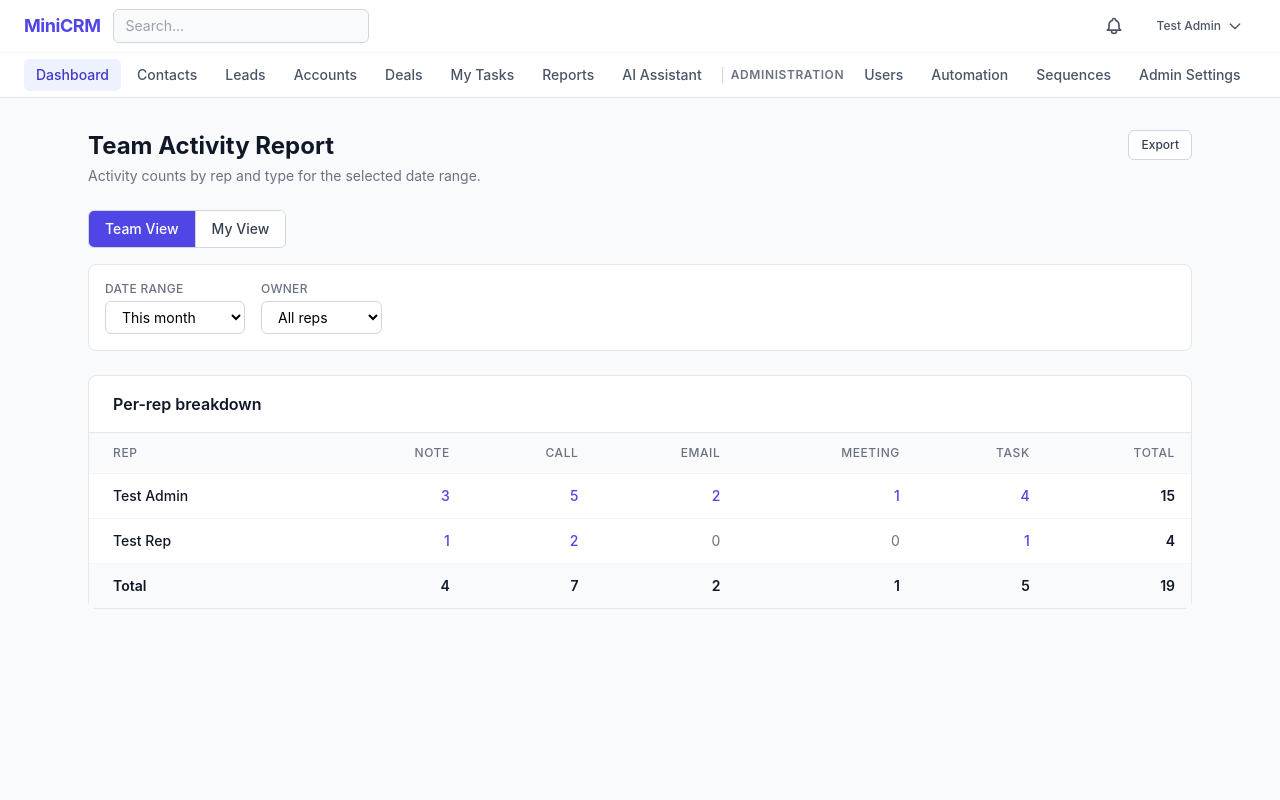
it: ActivityVolumeReportPage › view mode toggle › heading changes to My Activity Report when admin switches to My View
Click the button with test id "view-mode-my": (240, 229) x1=195 y1=211 x2=285 y2=247
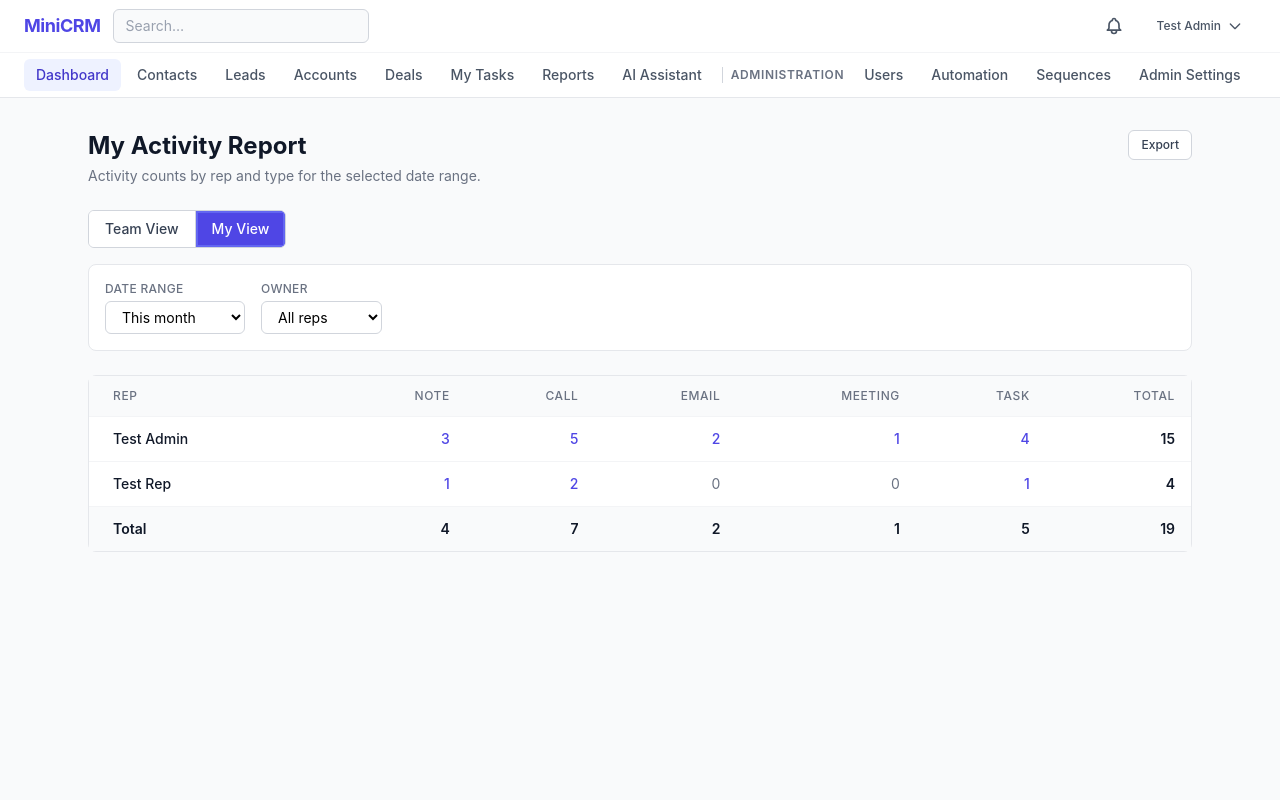
expect the heading with test id "activity-volume-report-heading" reads "My Activity Report": met, box x1=88 y1=131 x2=306 y2=160
